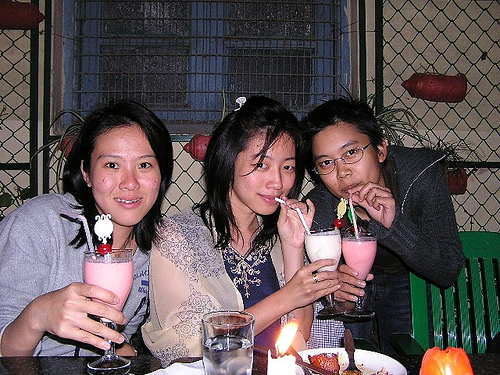without_mask: (80, 118, 165, 227), (223, 113, 306, 218), (302, 119, 390, 204)
